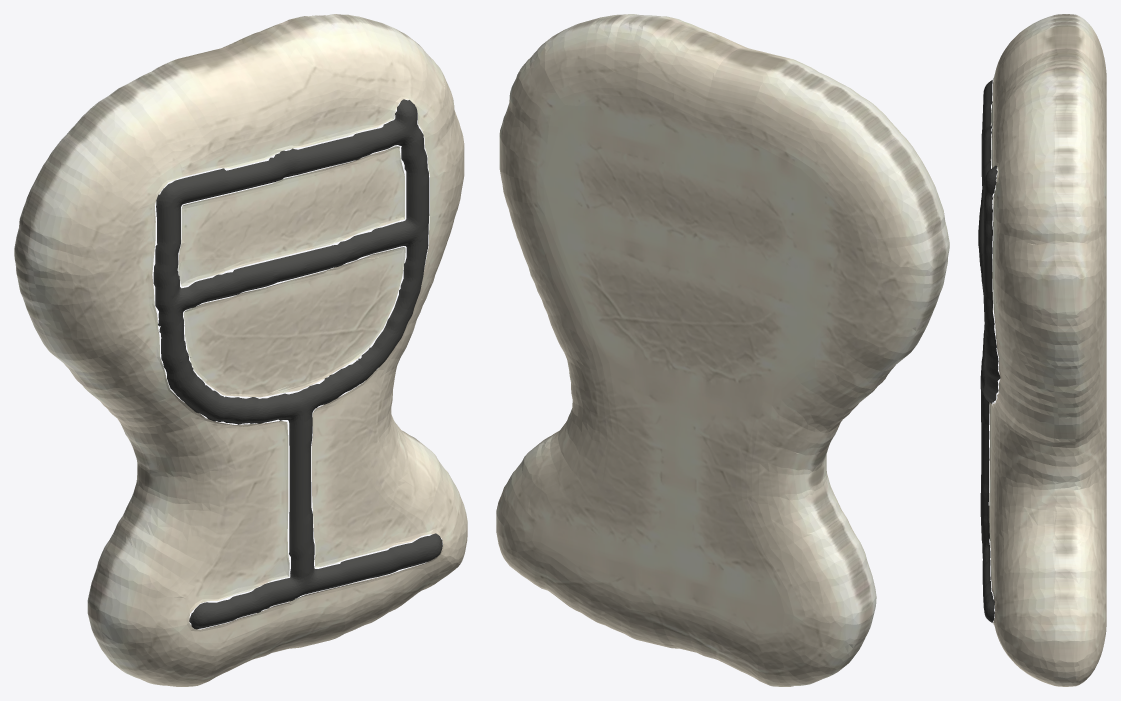
The model's file is IAMWE_XMAS_GLASS.glb.
3 renders of one model, left to right at view 1: azimuth 30°, elevation 25°; view 2: azimuth 150°, elevation 25°; view 3: azimuth 270°, elevation 25°, orthographic. The views are drawn at different scales.
Visible parts, largest first — view 1: glass_paper, glass_thread; view 2: glass_paper; view 3: glass_paper, glass_thread.
Part boxes in pixels (bbox=[...]): glass_paper: bbox=[14, 14, 467, 686]; glass_thread: bbox=[153, 99, 442, 629]; glass_paper: bbox=[496, 14, 949, 686]; glass_paper: bbox=[989, 14, 1106, 686]; glass_thread: bbox=[978, 80, 1000, 622].
Size of the model in its own units: 0.7277 by 1 by 0.1933.
2 materials, 1 textured.
